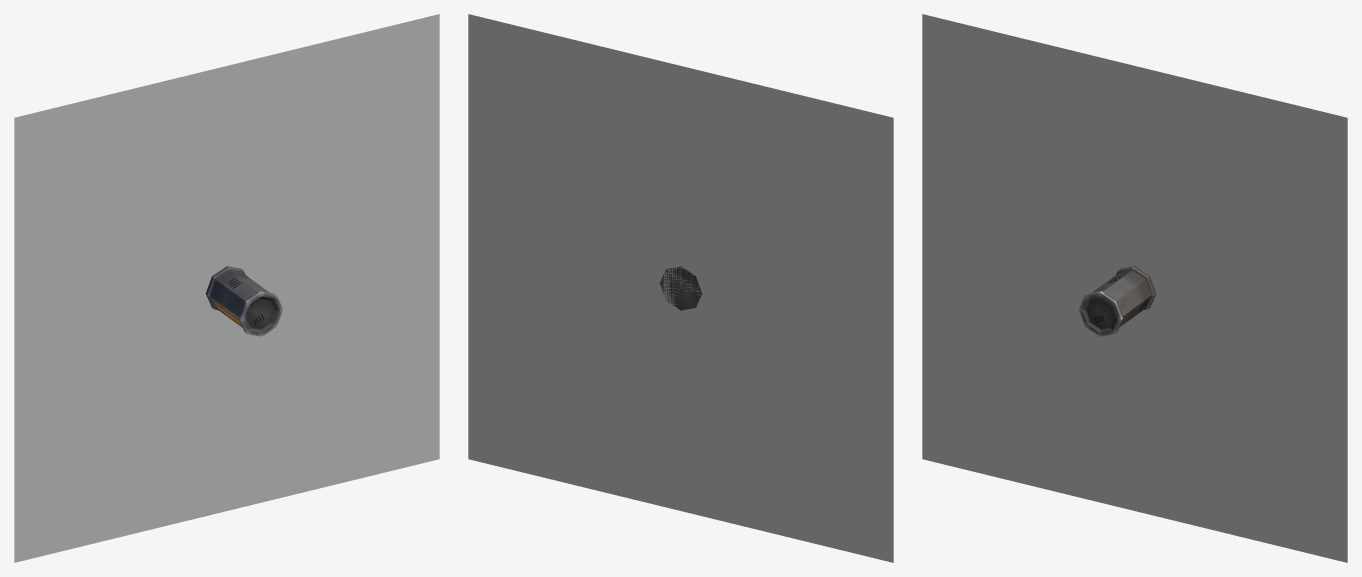
File: barrel2.obj
The picture shows the model from 3 angles, left to right: view 1: azimuth 30°, elevation 25°; view 2: azimuth 150°, elevation 25°; view 3: azimuth 330°, elevation 25°; orthographic projection.
Visible parts, largest first — view 1: Plane, Circle; view 2: Plane, Circle; view 3: Plane, Circle.
Boxes of the visible parts, x1,y1,x2,y2 form: Plane: (14, 14, 439, 562); Circle: (205, 266, 282, 336); Plane: (468, 14, 893, 562); Circle: (659, 266, 702, 310); Plane: (922, 14, 1347, 562); Circle: (1079, 266, 1156, 336).
Size of the model in its own units: 10 by 10 by 1.42.
2 materials, 1 textured.
